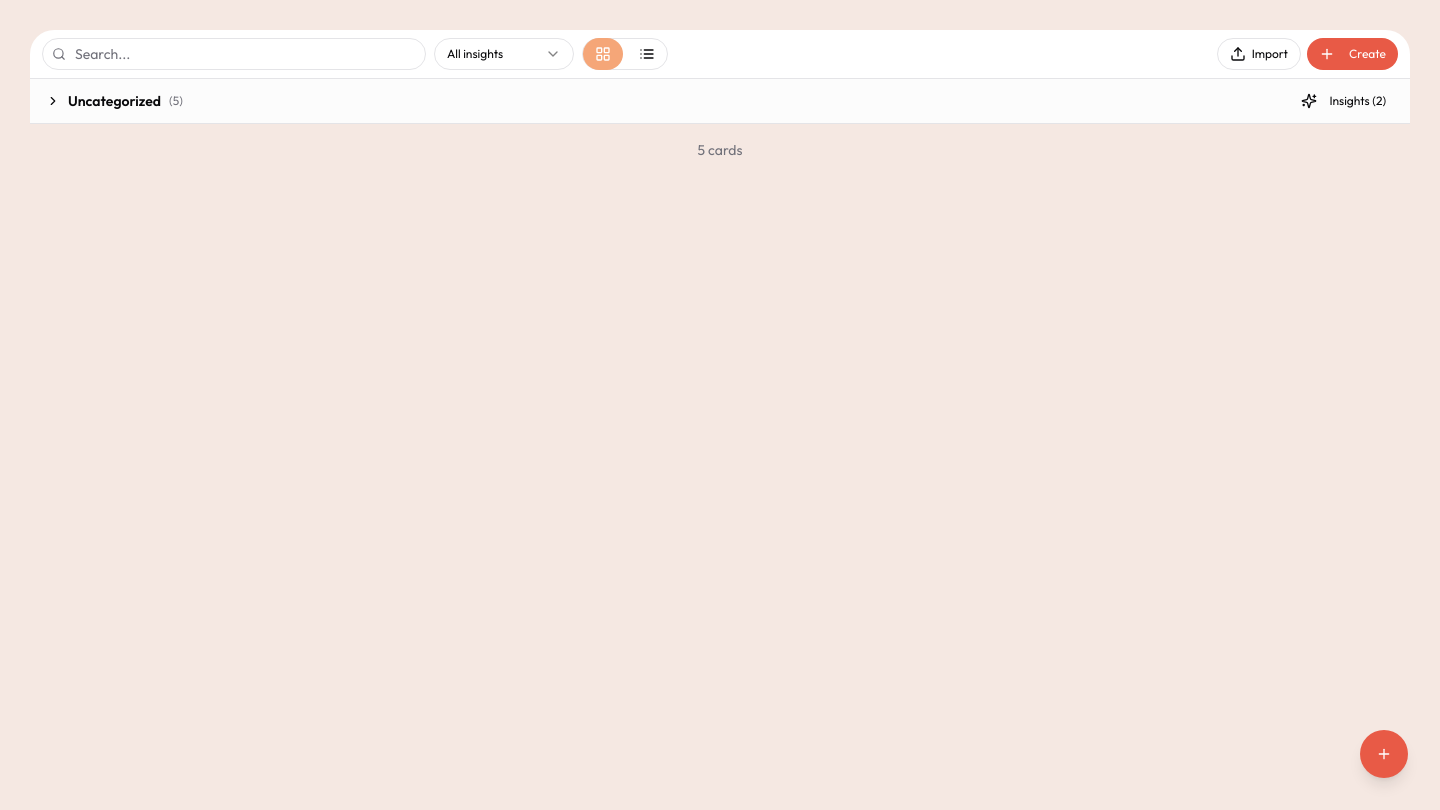
it: Cards Page › filters cards by search query
Expected: the text "5 cards" is shown, x1=698 y1=141 x2=742 y2=159
// Type in search box
Type "kat" into the field with placeholder "Search..." at x=234, y=54, box x1=42 y1=38 x2=426 y2=70
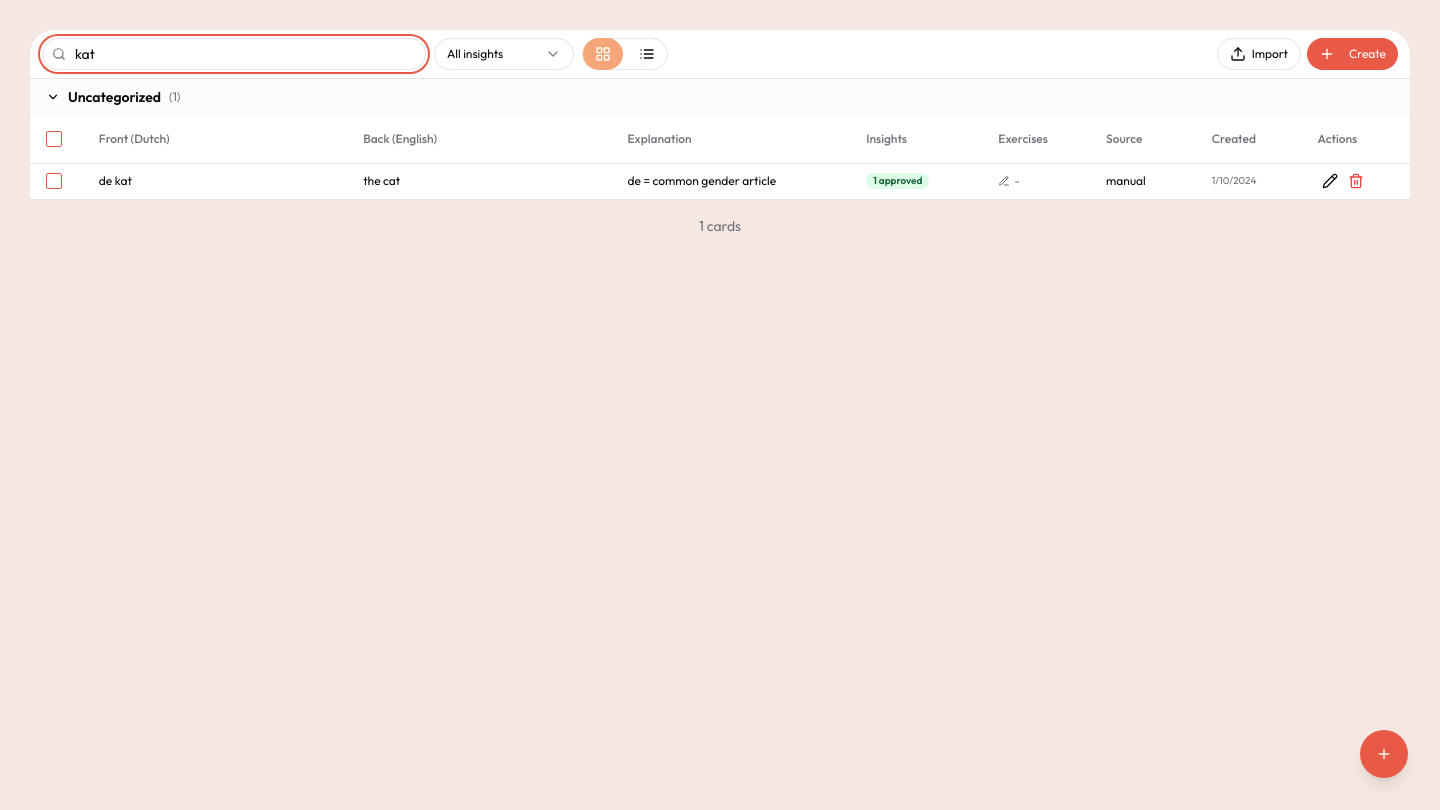
Expected: the text "1 cards" is shown, x1=699 y1=217 x2=741 y2=235
